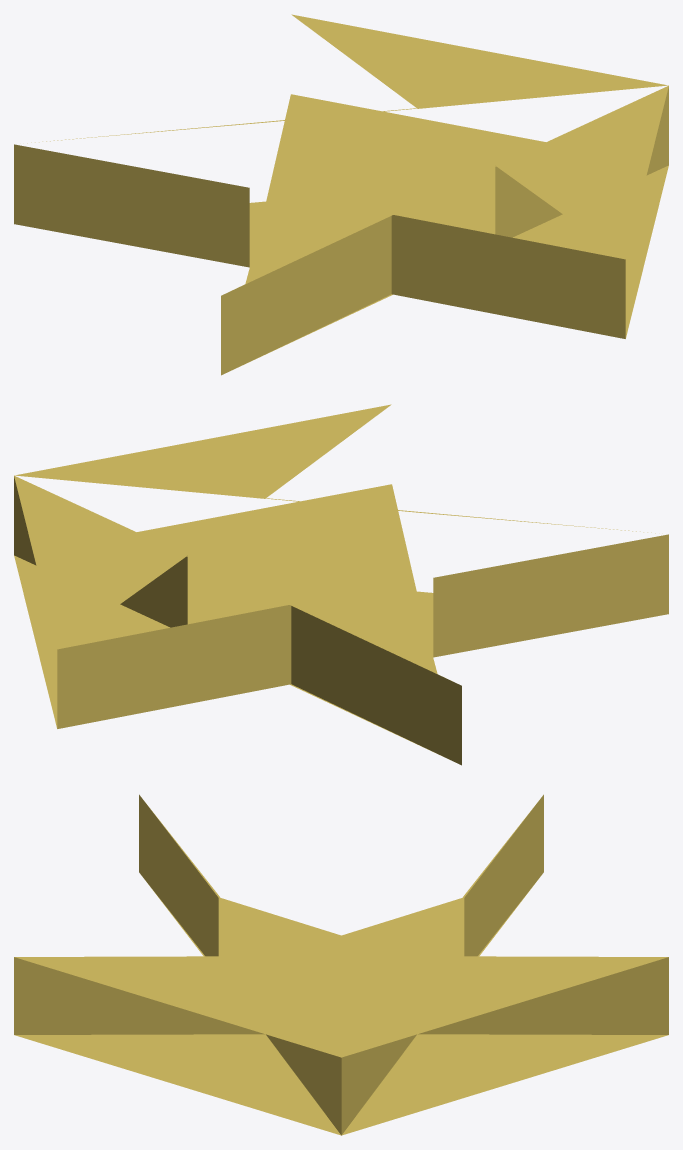
File: modelo.glb
3 renders of one model, top to bottom at view 1: azimuth 30°, elevation 25°; view 2: azimuth 150°, elevation 25°; view 3: azimuth 270°, elevation 25°, orthographic. The views are drawn at different scales.
Visible parts, largest first — view 1: chispas; view 2: chispas; view 3: chispas.
Part boxes in pixels (x1=…): chispas: x1=14, y1=14, x2=668, y2=375; chispas: x1=14, y1=404, x2=668, y2=765; chispas: x1=14, y1=794, x2=668, y2=1135.
Size of the model in its own units: 0.0217 by 0.003 by 0.0228.
